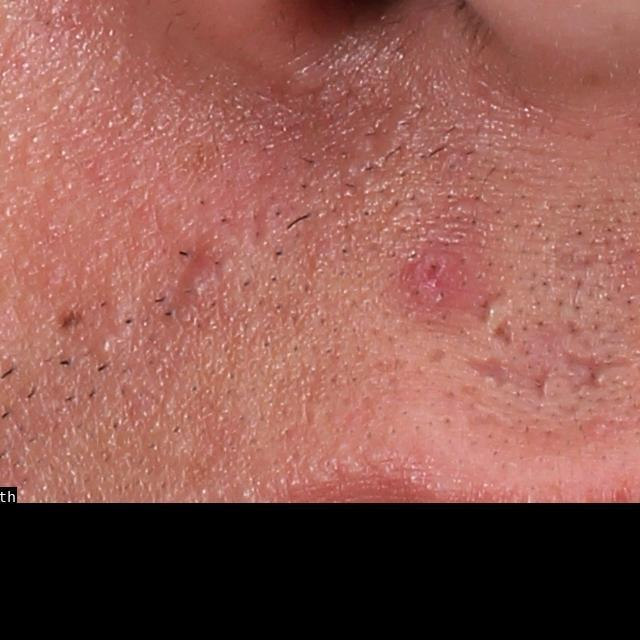atrophic_scar: (561, 349, 640, 389), (462, 285, 510, 328), (463, 354, 512, 390), (493, 315, 520, 347), (533, 360, 553, 397), (426, 346, 447, 366)
comedo: (89, 331, 122, 363)
nevus: (53, 300, 87, 333)
papule: (397, 230, 473, 303), (178, 259, 218, 314)
